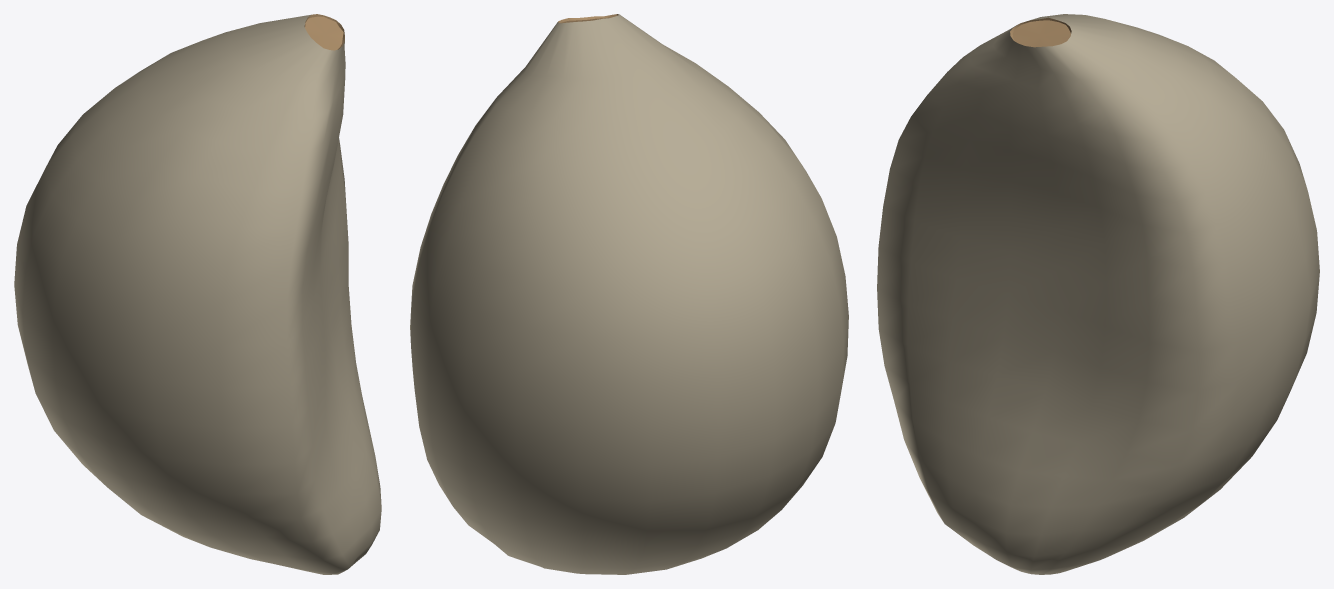
Rendered from GarlicFBX.fbx.
The picture shows the model from 3 angles, left to right: view 1: azimuth 30°, elevation 25°; view 2: azimuth 150°, elevation 25°; view 3: azimuth 270°, elevation 25°; orthographic projection. The views are drawn at different scales.
Visible parts, largest first — view 1: pSphere2; view 2: pSphere2; view 3: pSphere2.
Boxes of the visible parts, x1,y1,x2,y2 form: pSphere2: [14, 14, 381, 574]; pSphere2: [410, 14, 848, 574]; pSphere2: [877, 14, 1319, 574].
Size of the model in its own units: 1.51 by 2.22 by 1.66.
